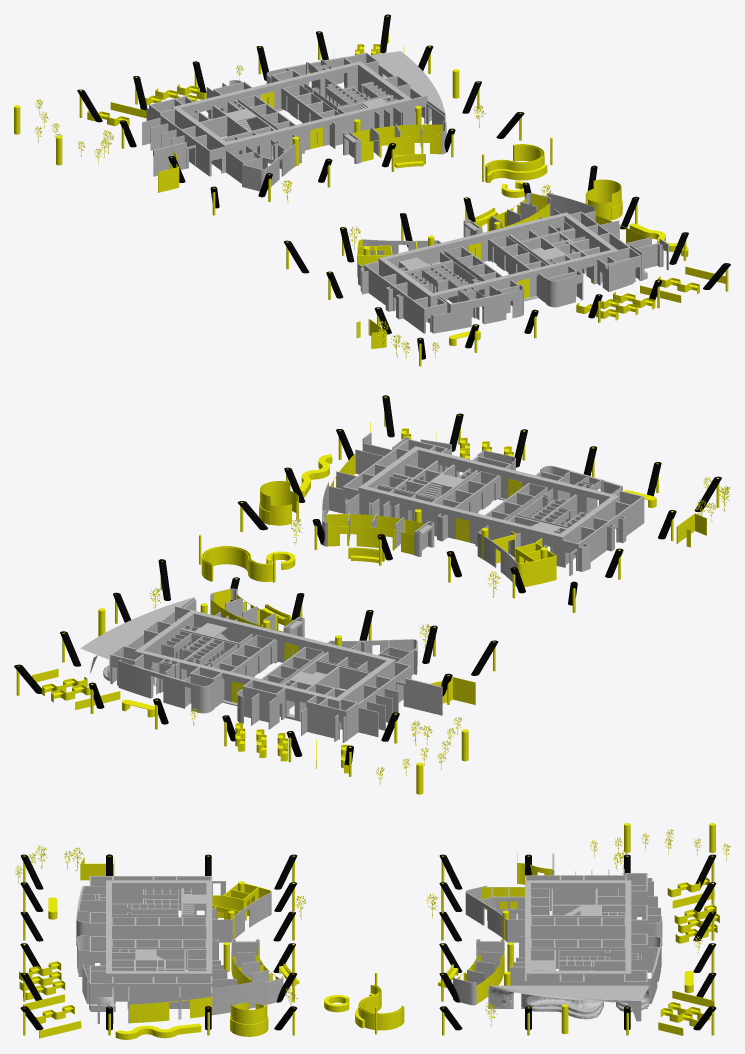
The model's file is sm_hana_building_3f_in.glb.
3 renders of one model, top to bottom at view 1: azimuth 30°, elevation 25°; view 2: azimuth 150°, elevation 25°; view 3: azimuth 270°, elevation 25°, orthographic. The views are drawn at different scales.
Parts seen in each view (by area): view 1: sm_hana_building_3f_in; view 2: sm_hana_building_3f_in; view 3: sm_hana_building_3f_in.
Boxes of the visible parts, x1,y1,x2,y2 form: sm_hana_building_3f_in: [14, 14, 730, 366]; sm_hana_building_3f_in: [14, 395, 730, 794]; sm_hana_building_3f_in: [14, 823, 730, 1039].
Bounding box in the file's own units: 60.16 × 4.61 × 95.82.
Materials: 7 (5 with a texture image).
